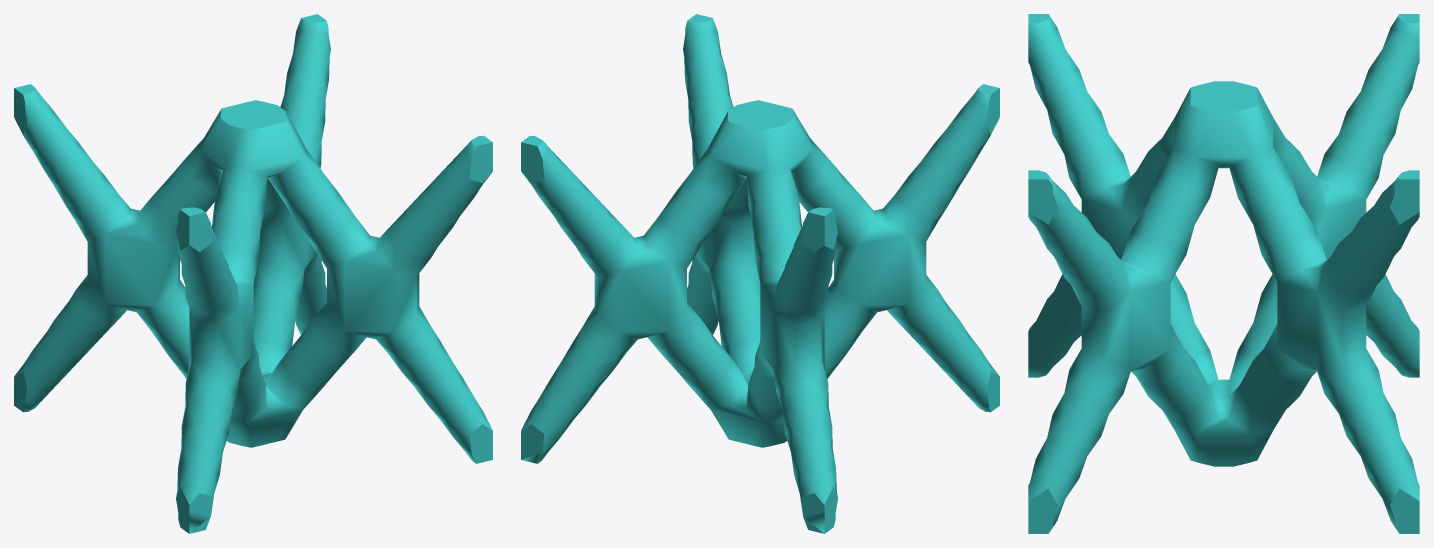
File: Variation2.glb
The picture shows the model from 3 angles, left to right: view 1: azimuth 30°, elevation 25°; view 2: azimuth 150°, elevation 25°; view 3: azimuth 270°, elevation 25°; orthographic projection. The views are drawn at different scales.
Visible parts, largest first — view 1: Mesh_0.008; view 2: Mesh_0.008; view 3: Mesh_0.008.
Boxes of the visible parts, bbox=[...] form: Mesh_0.008: bbox=[14, 14, 492, 533]; Mesh_0.008: bbox=[521, 14, 999, 533]; Mesh_0.008: bbox=[1028, 14, 1419, 533].
Size of the model in its own units: 1 by 1 by 1.
